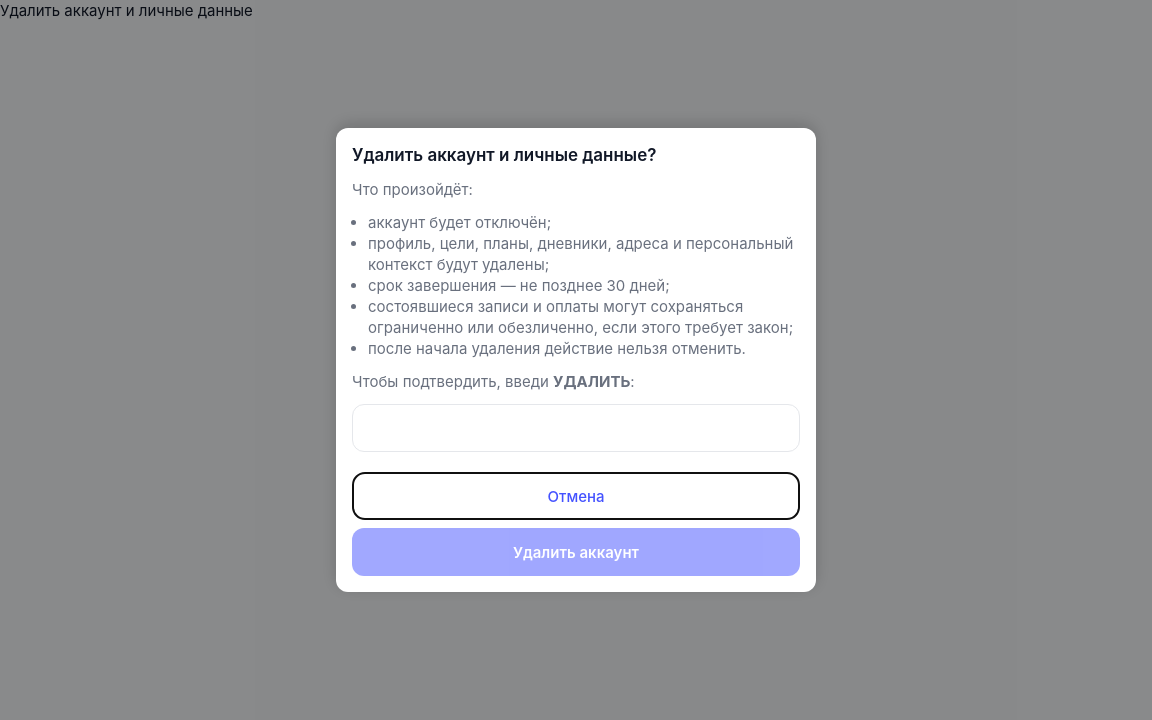
it: PersonalDataDeleteSheet › says «уже был принят» on a repeat (created=false) with the same number
In the field labelled "Чтобы подтвердить, введи УДАЛИТЬ:": (576, 428) 352,404 -> 800,452, type "УДАЛИТЬ"
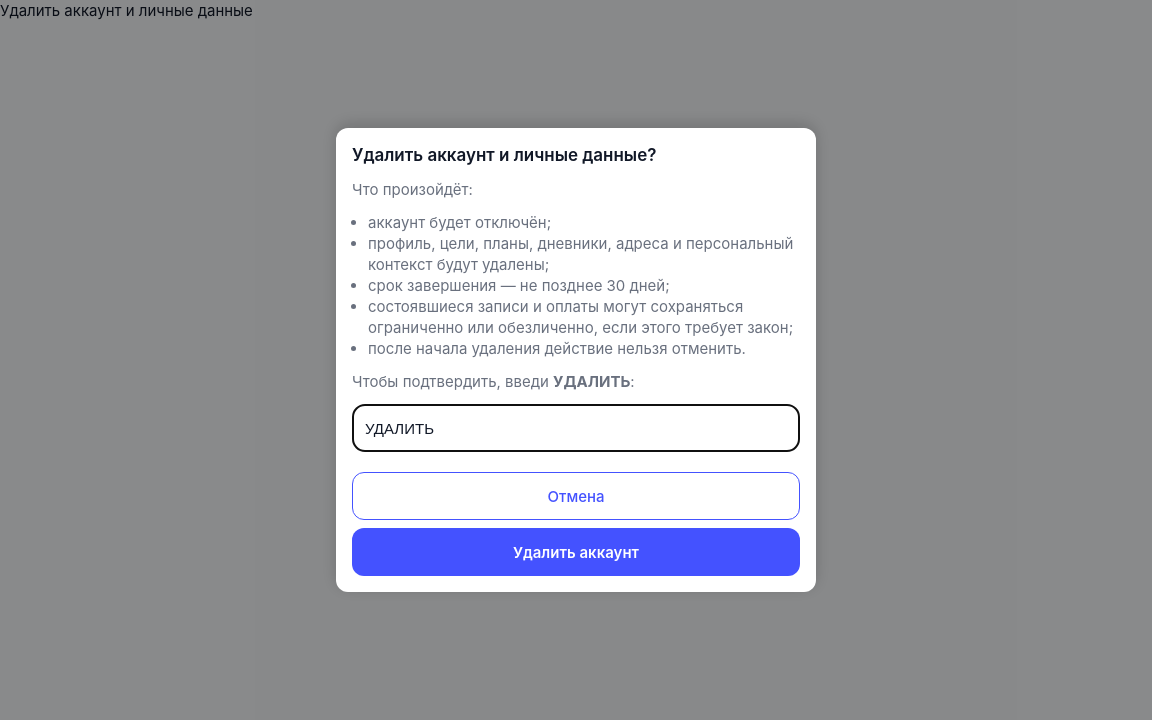
Click the button "Удалить аккаунт": (576, 552) 352,528 -> 800,576
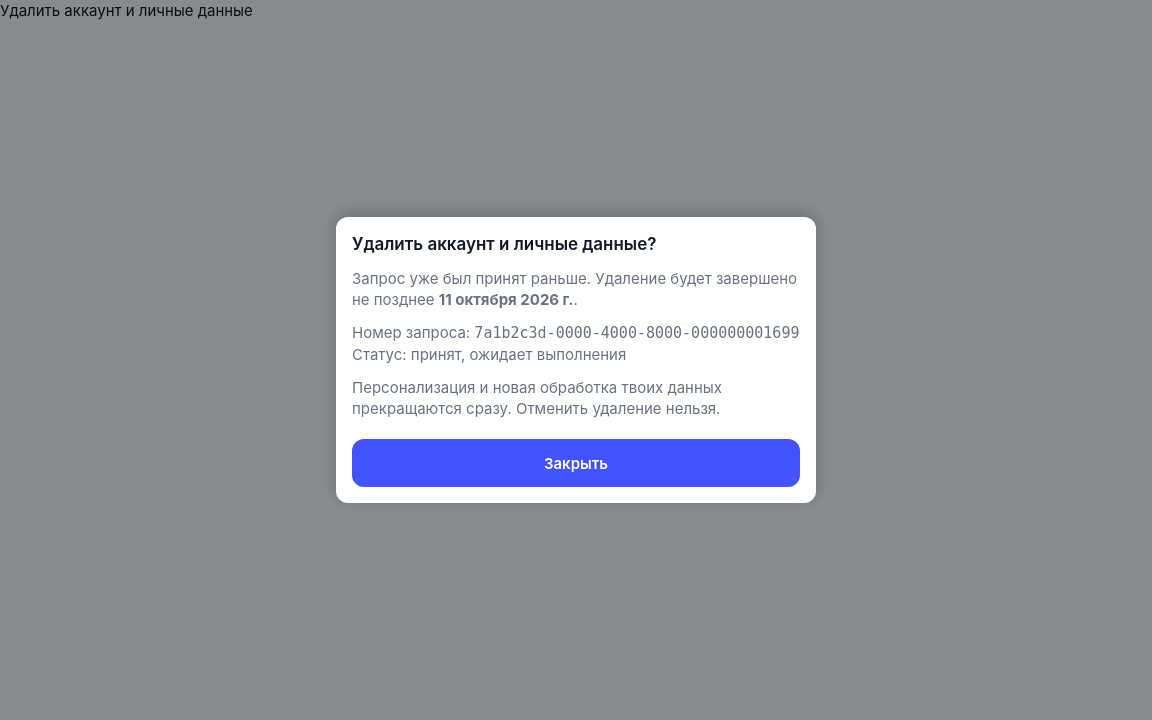
Expected: the text "уже был принят раньше" is shown, 352,269 -> 591,288
Expected: the text "7a1b2c3d-0000-4000-8000-000000001699" is shown, 474,324 -> 800,342
